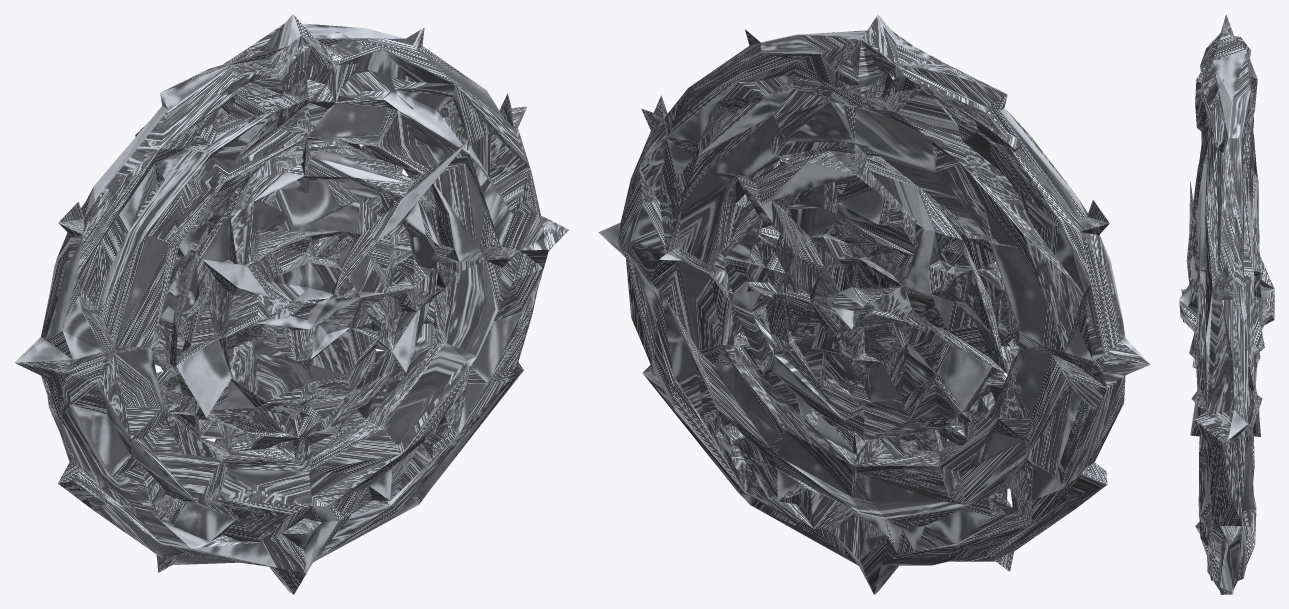
The model's file is astro_clock.glb.
The picture shows the model from 3 angles, left to right: view 1: azimuth 30°, elevation 25°; view 2: azimuth 150°, elevation 25°; view 3: azimuth 270°, elevation 25°; orthographic projection. The views are drawn at different scales.
Parts seen in each view (by area): view 1: astro_clock; view 2: astro_clock; view 3: astro_clock.
Boxes of the visible parts, x1,y1,x2,y2 form: astro_clock: [14, 14, 568, 594]; astro_clock: [598, 14, 1150, 594]; astro_clock: [1179, 14, 1274, 594].
Bounding box in the file's own units: 0.5997 × 0.5995 × 0.092.
1 material, 1 textured.
